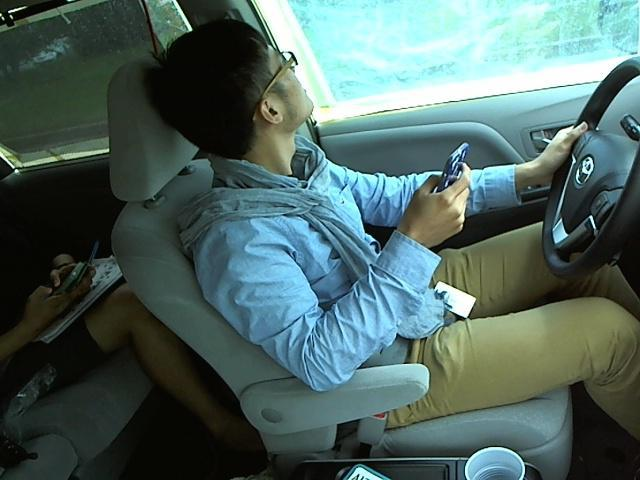PhoneUse: (435, 135, 472, 206)
